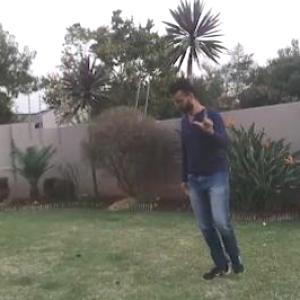land_hand: (192, 100, 216, 136)
